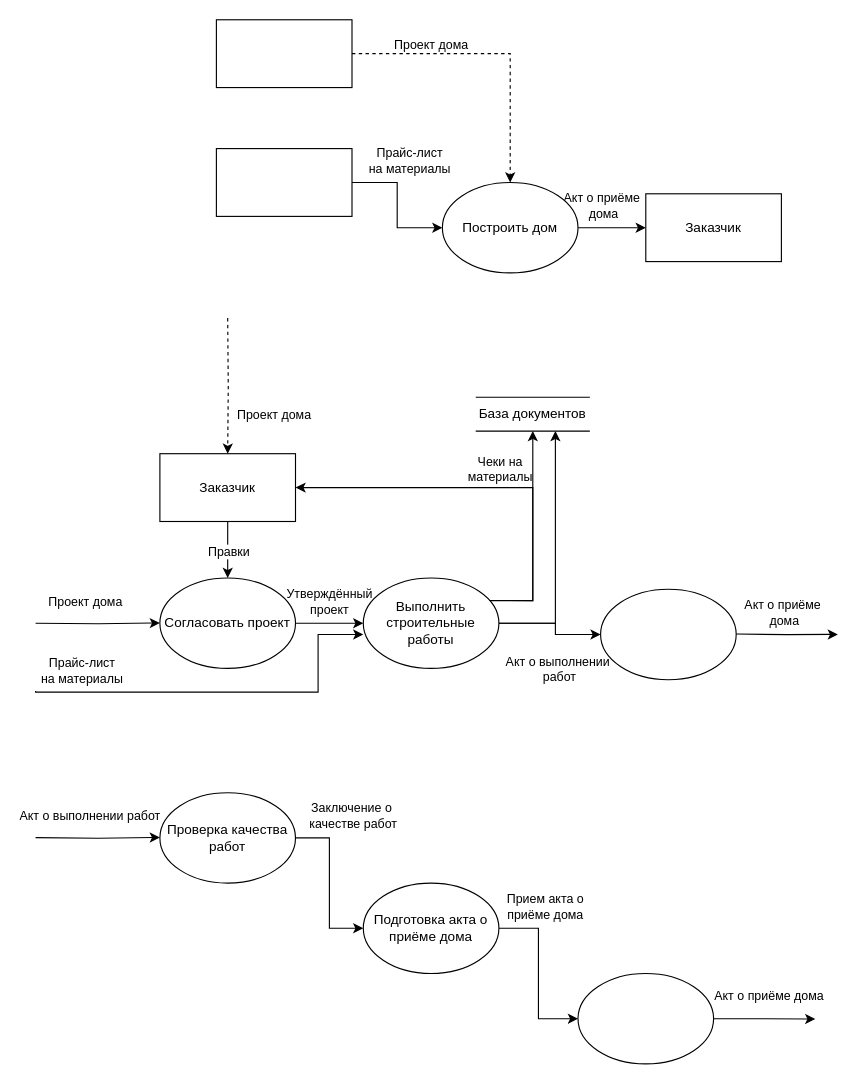
This 867x1084 diagram has some shape labels left out. Here are the shapes that lost their labels. From the top down, the centre of each, then its label:
the point at 283,53: Архитектор
the point at 283,181: Магазин
the point at 667,634: Сдать проект
the point at 645,1018: Согласования акта о приёме дома
